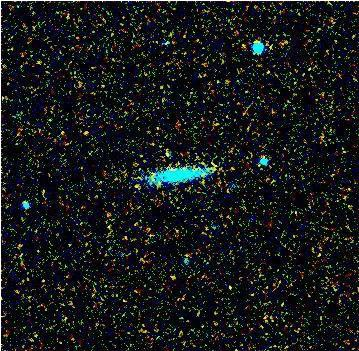star: (119, 175, 149, 205)
